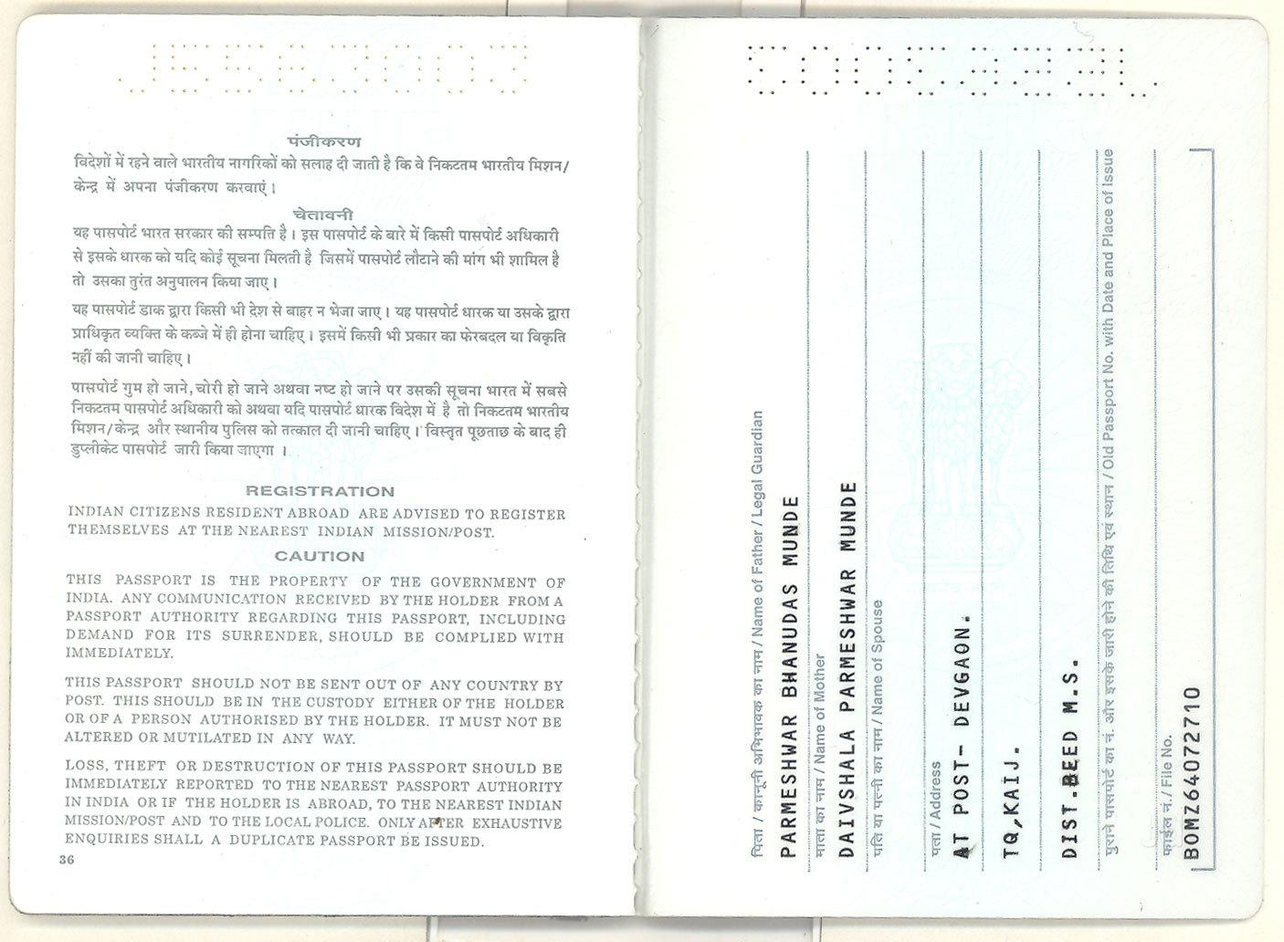File_no: (105, 864, 351, 889)
address: (97, 695, 445, 803)
father_name: (96, 561, 649, 593)
mother_name: (96, 605, 634, 639)
